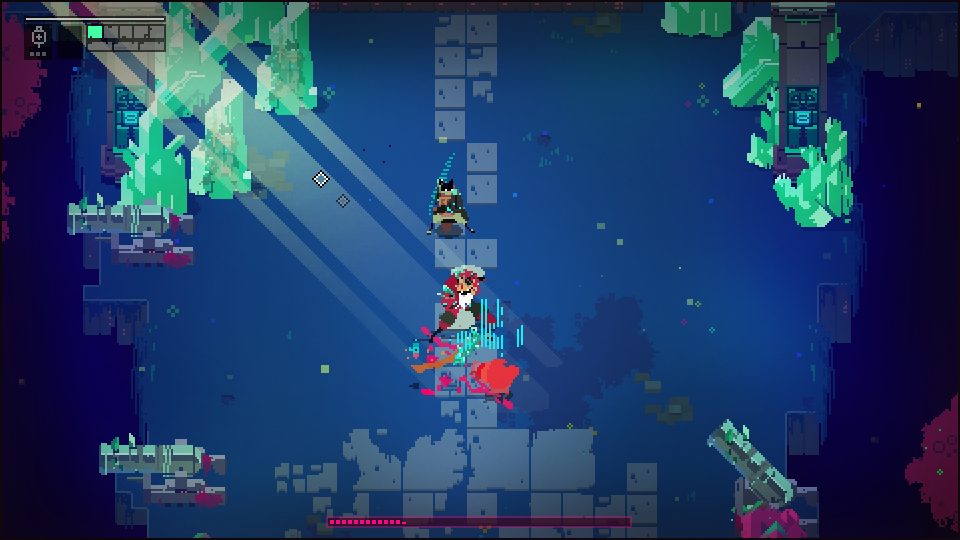hanged_man: (419, 261, 499, 356)
player: (471, 357, 524, 398)
